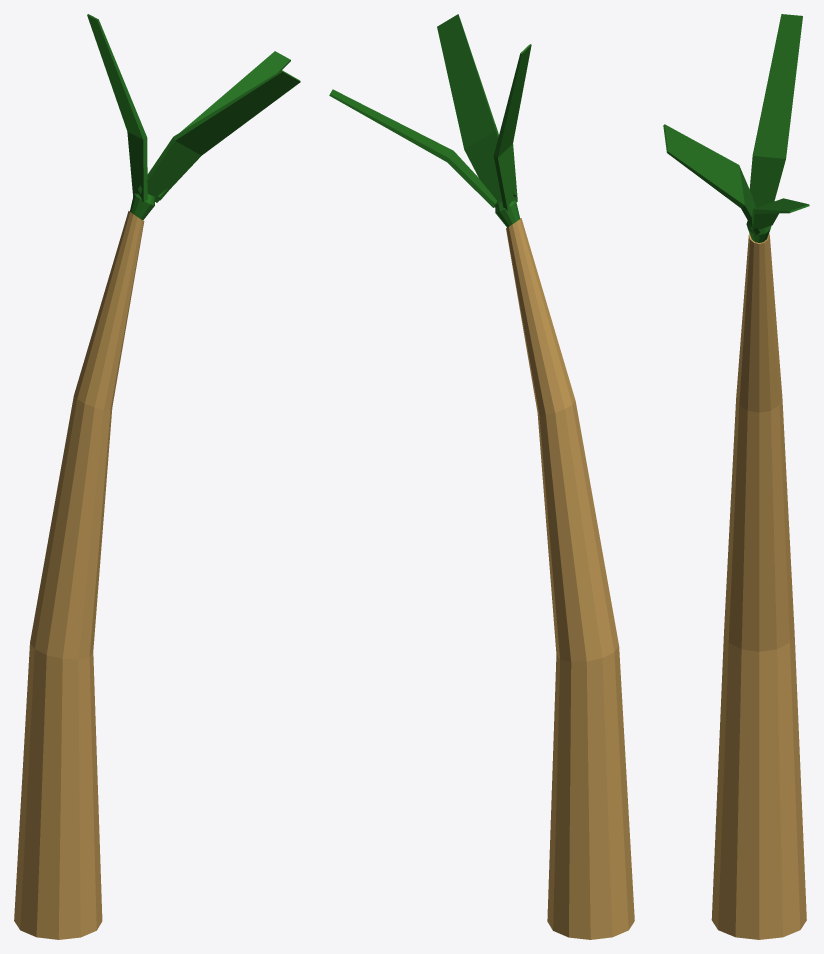
File: PalmG4.fbx
3 renders of one model, left to right at view 1: azimuth 30°, elevation 25°; view 2: azimuth 150°, elevation 25°; view 3: azimuth 270°, elevation 25°, orthographic. The views are drawn at different scales.
Visible parts, largest first — view 1: Icosphere.009; view 2: Icosphere.009; view 3: Icosphere.009.
Boxes of the visible parts, x1,y1,x2,y2 form: Icosphere.009: (14, 14, 300, 939); Icosphere.009: (329, 14, 634, 939); Icosphere.009: (663, 14, 809, 939).
Bounding box in the file's own units: 115 × 48.43 × 340.
